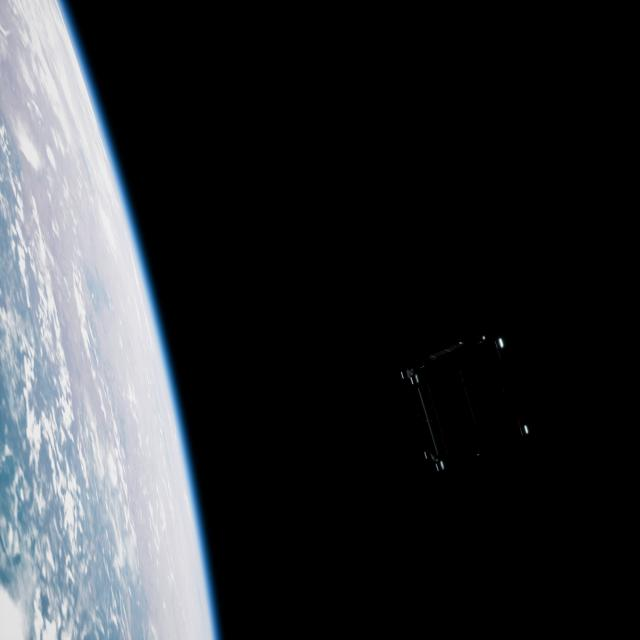satellite: (394, 316, 546, 490)
